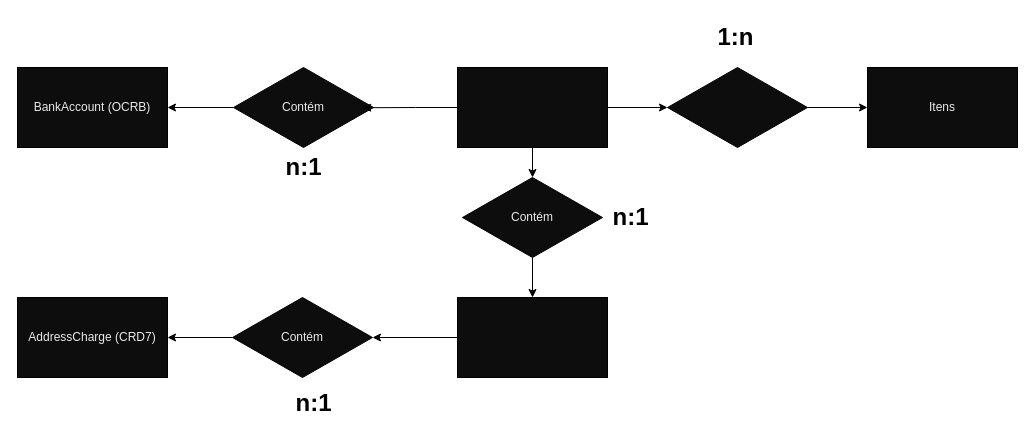
Some shapes in this 1035 by 440 pixel diagram are drawn without their labels. Here are the shapes that lost their labels. From the top down, the box of each, then its label:
(456, 66, 608, 148): PN (OCRD)
(666, 66, 808, 148): Vende
(456, 296, 608, 378): Address (CRD1)
